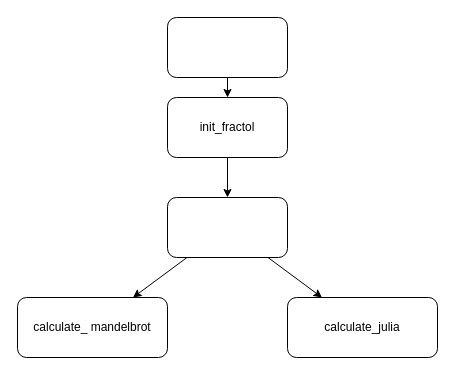
This 455x375 diagram has some shape labels left out. Here are the shapes that lost their labels. From the top down, the centre of each, then its label:
At point 227,47: "main".
At point 227,227: "draw_fractol".
